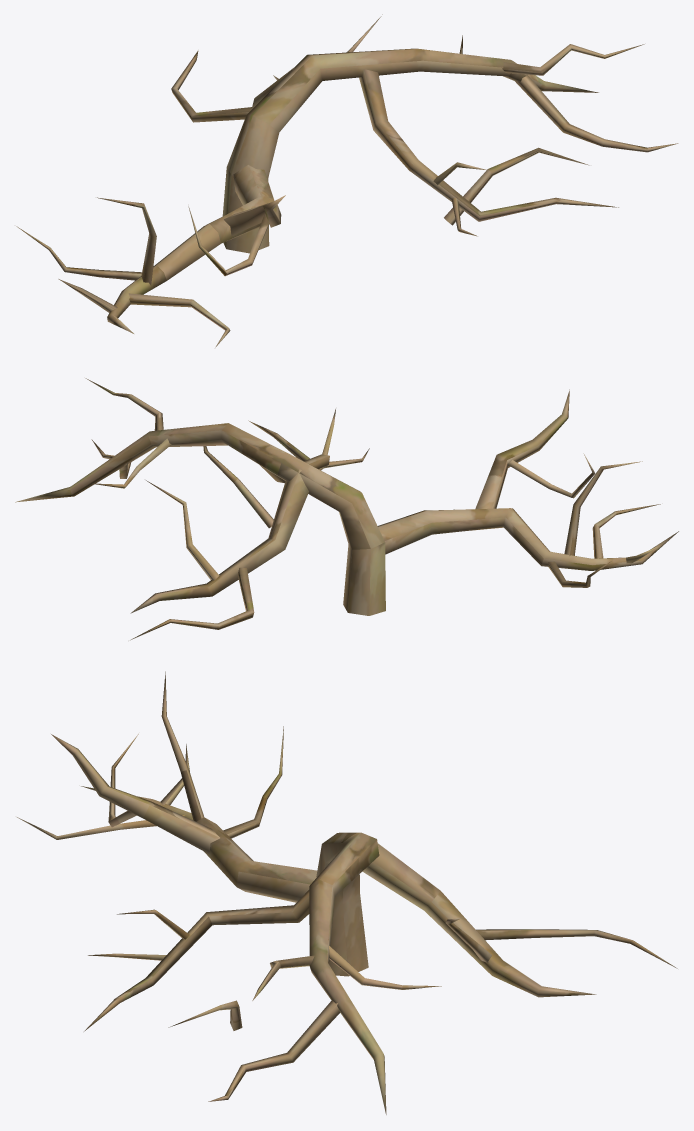
File: P_DesertTwigRoots03.obj
The picture shows the model from 3 angles, top to bottom: view 1: azimuth 30°, elevation 25°; view 2: azimuth 150°, elevation 25°; view 3: azimuth 270°, elevation 25°; orthographic projection. The views are drawn at different scales.
Bounding box in the file's own units: 2.67 × 0.6875 × 2.26.
